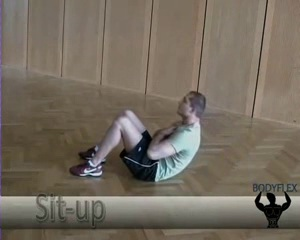sit_up: (67, 93, 201, 181)
